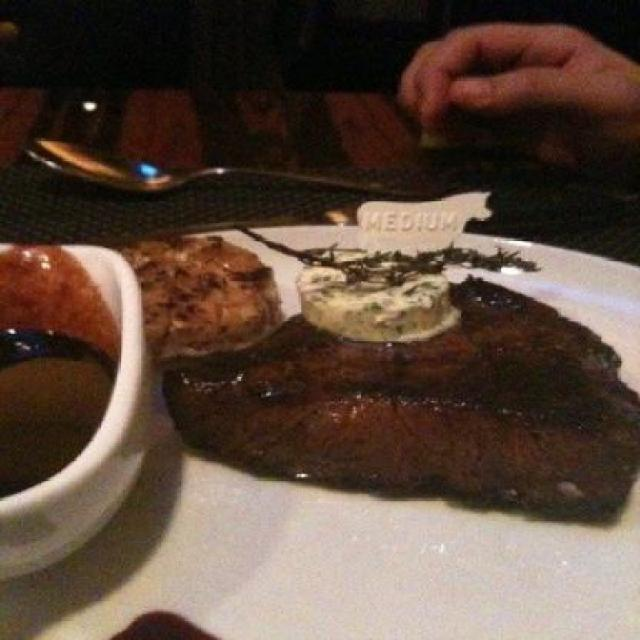Steak: (184, 278, 638, 536)
